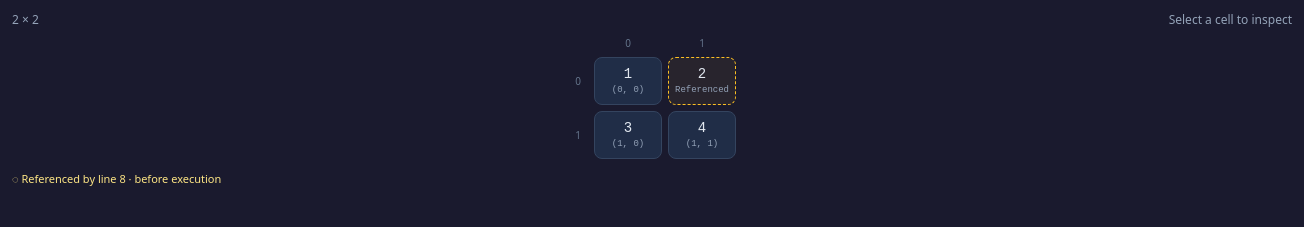
Scenario: uses the current statement instead of stale matrix pointers
Expected: the button with aria-label "grid[0][1] = 2, referenced by this line" is shown, [668,57,736,105]
Step 1. Click the button named "grid[1][1] = 4" → {"x": 702, "y": 135}, box [668,111,736,159]
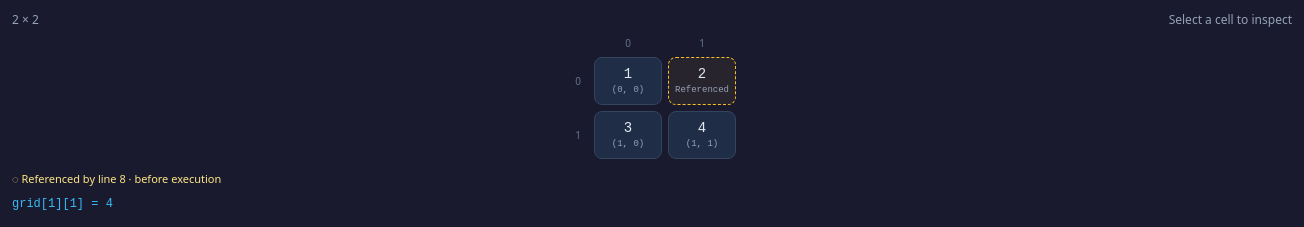
Expected: the message reads "grid[1][1] = 4", [12,196,113,210]
